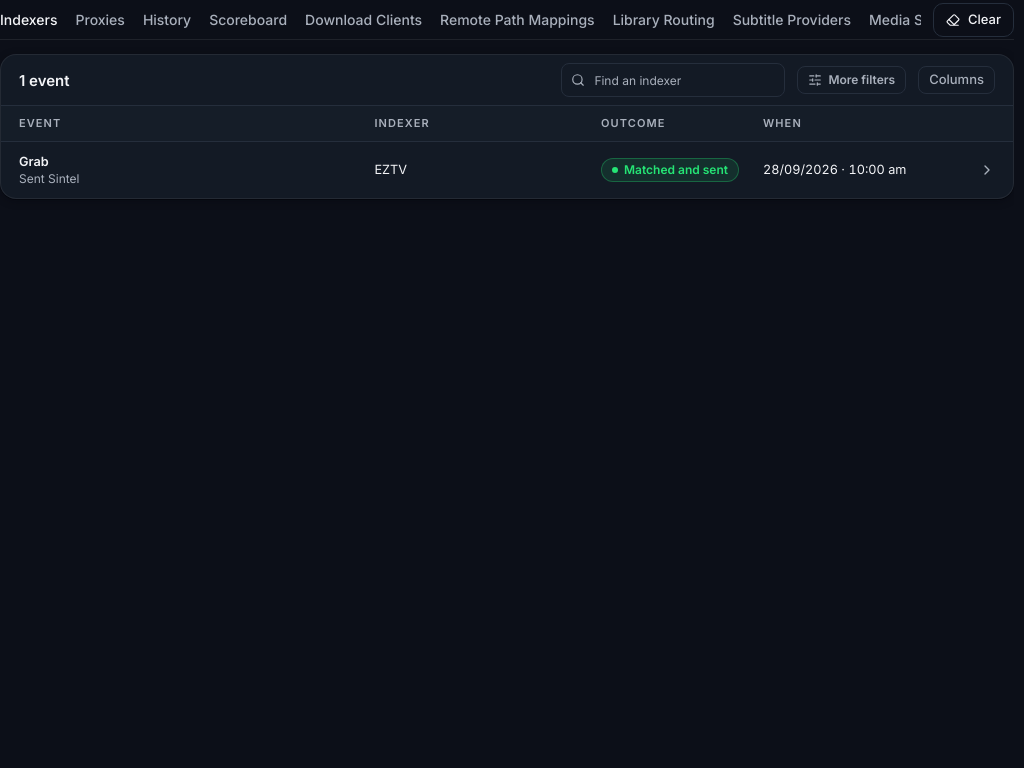
Test: Indexer History's list, drawer and clear (#1329) › a row opens a drawer with the indexer, outcome in words, when, related title and the detail pretty-printed
Click the text "Sent Sintel": point(49, 179) [19,171,80,186]
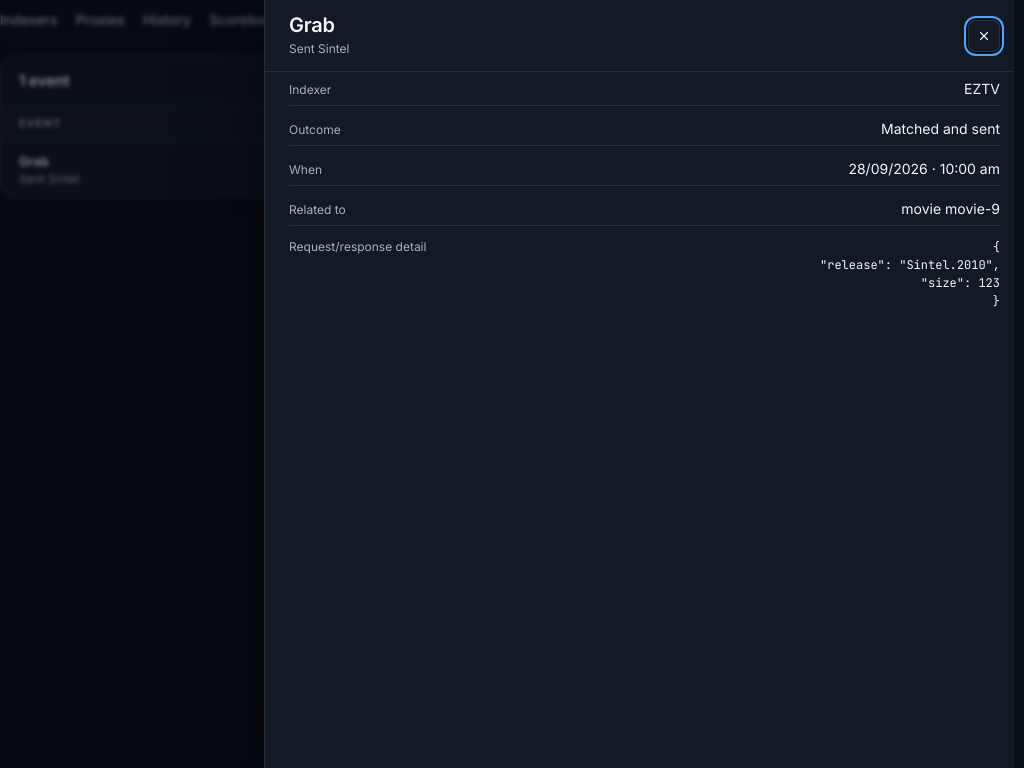
Expected: the text "Indexer" is shown, [289,81,331,99]
Expected: the text "Matched and sent" is shown, [881,118,1000,139]
Expected: the text "When" is shown, [289,161,322,179]
